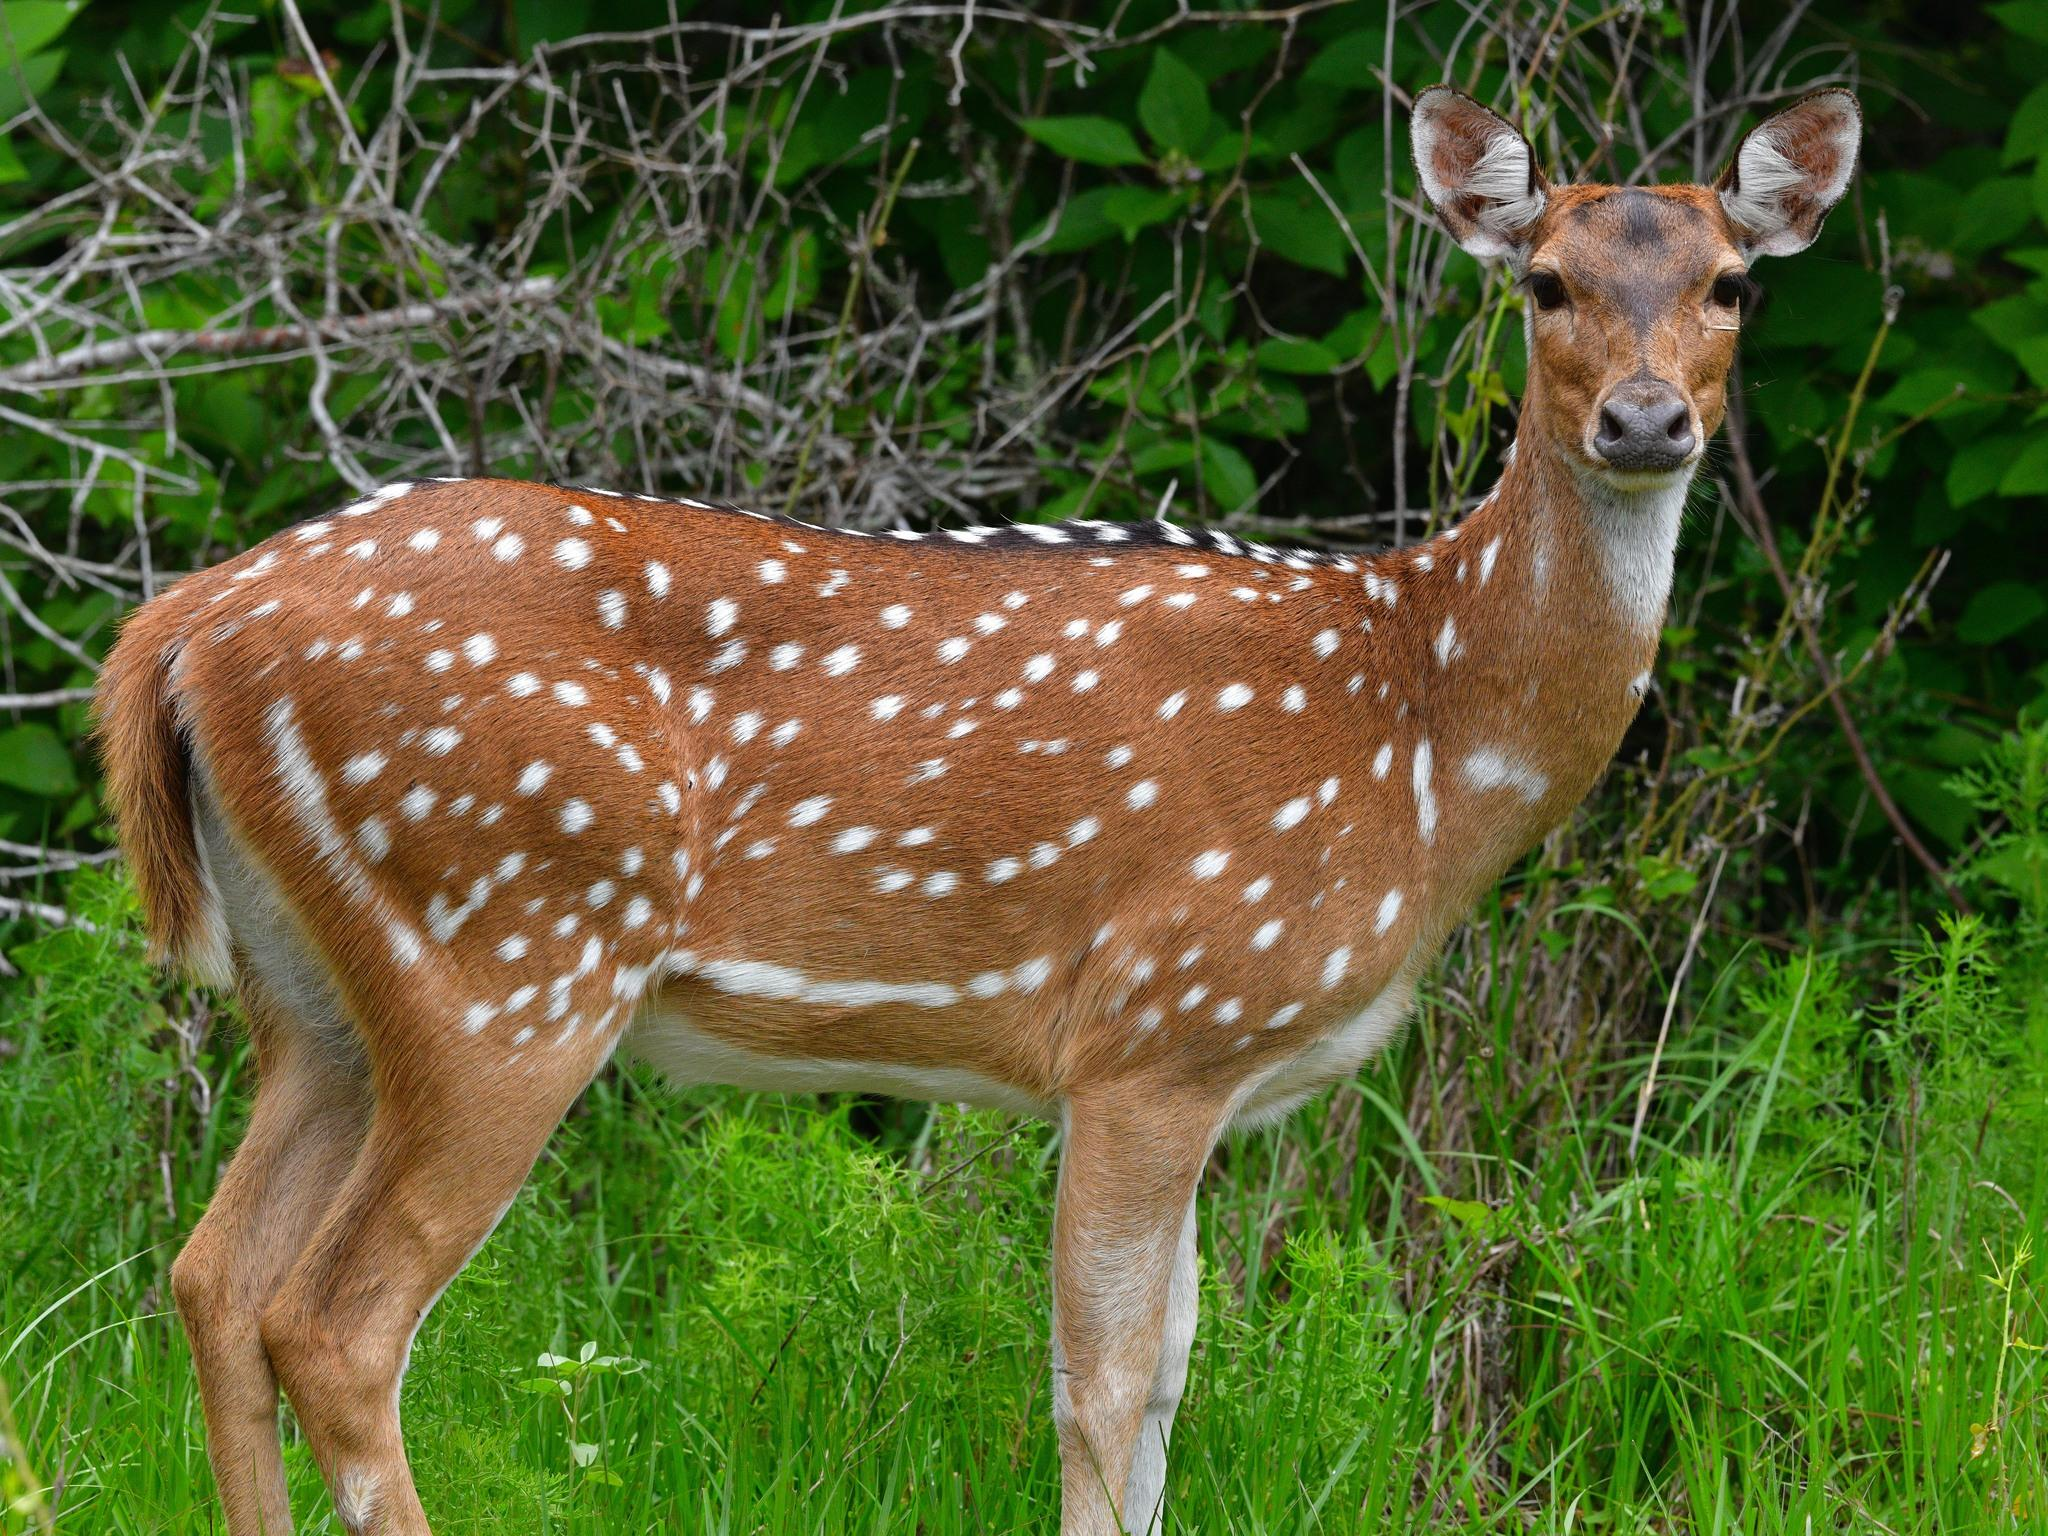Deer: (98, 86, 1858, 1533)
